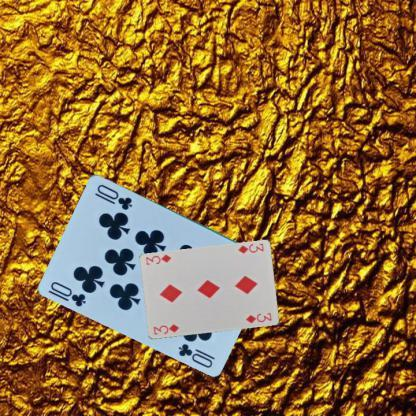10c: (48, 278, 88, 308)
3d: (150, 322, 180, 336), (235, 241, 265, 255)
